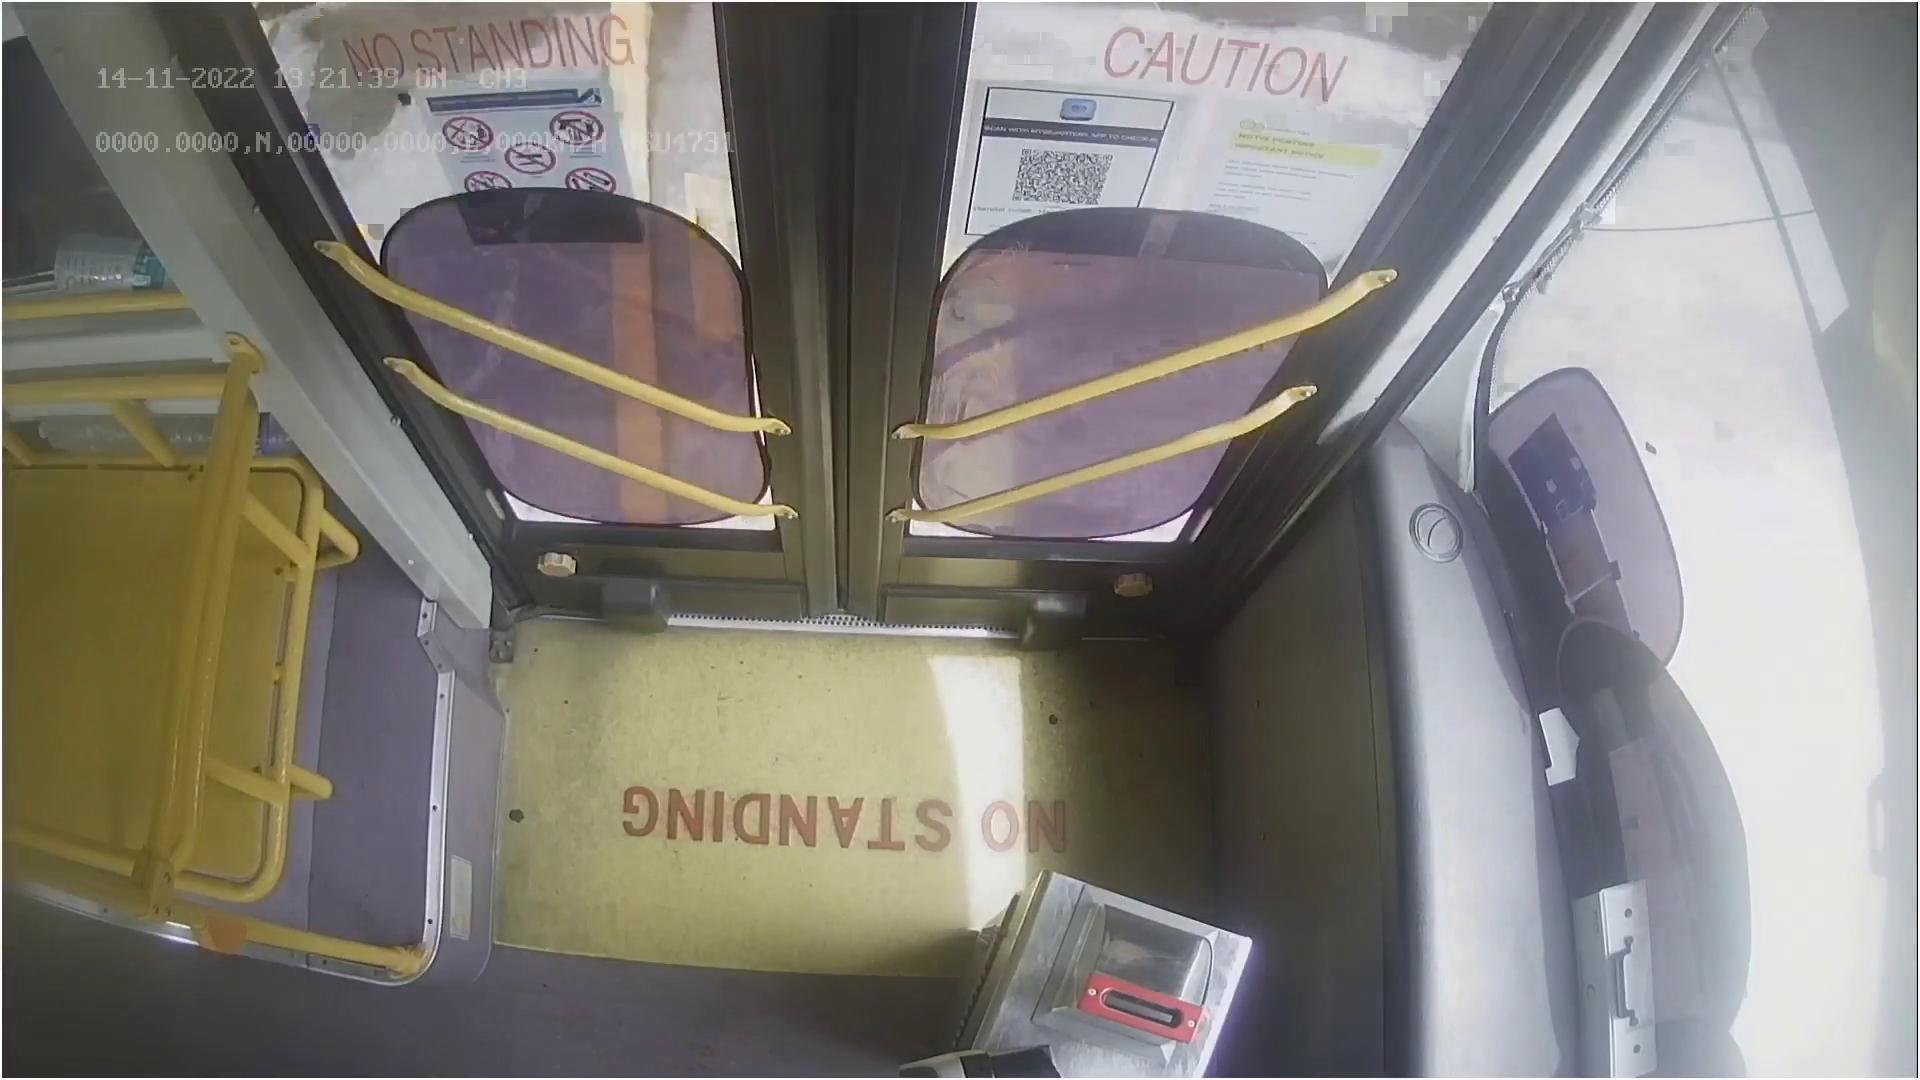close: (290, 0, 1451, 152)
